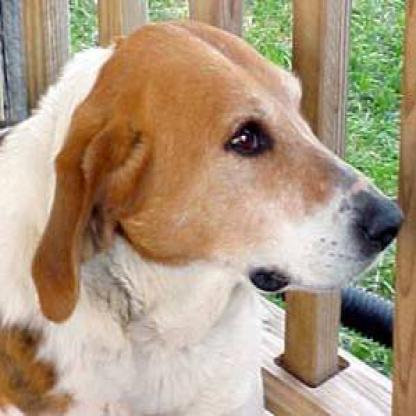dog: (40, 9, 403, 322)
